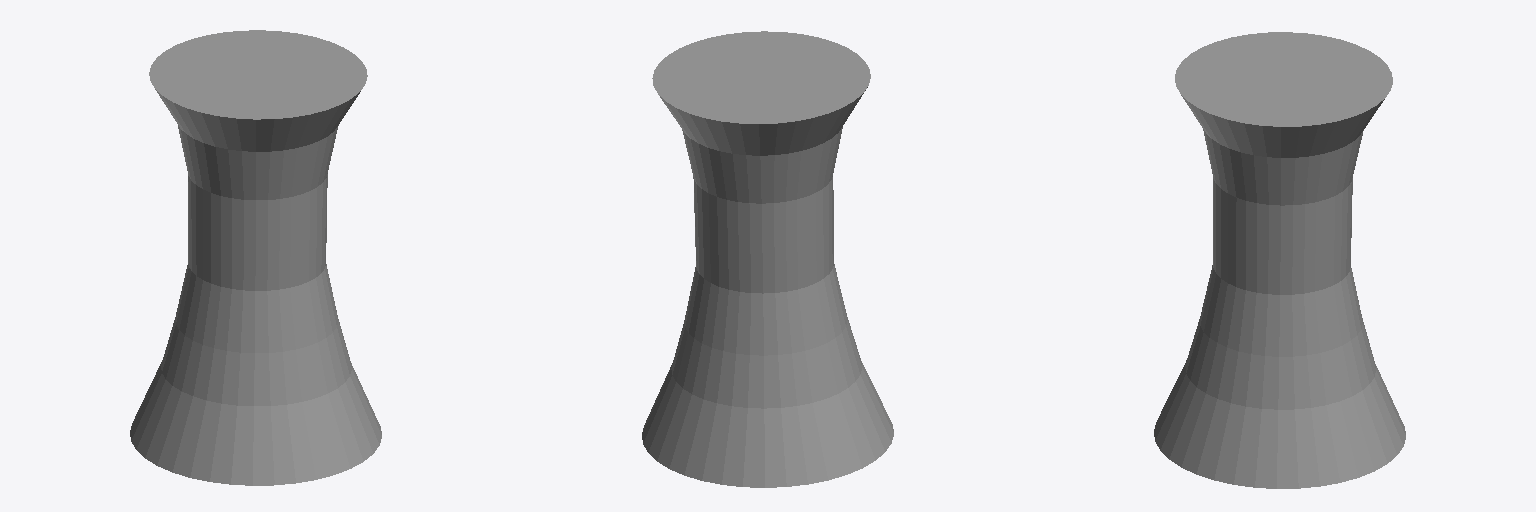
The model's file is whitequeen.obj.
3 views of the same model, side by side, from view 1: azimuth 30°, elevation 25°; view 2: azimuth 150°, elevation 25°; view 3: azimuth 270°, elevation 25° (orthographic).
Parts seen in each view (by area): view 1: Cube; view 2: Cube; view 3: Cube.
Part boxes in pixels (x1,y1,x2,y2): Cube: (130, 30, 381, 485); Cube: (642, 31, 893, 487); Cube: (1154, 32, 1405, 488).
Bounding box in the file's own units: 3.98 × 6.27 × 3.98.